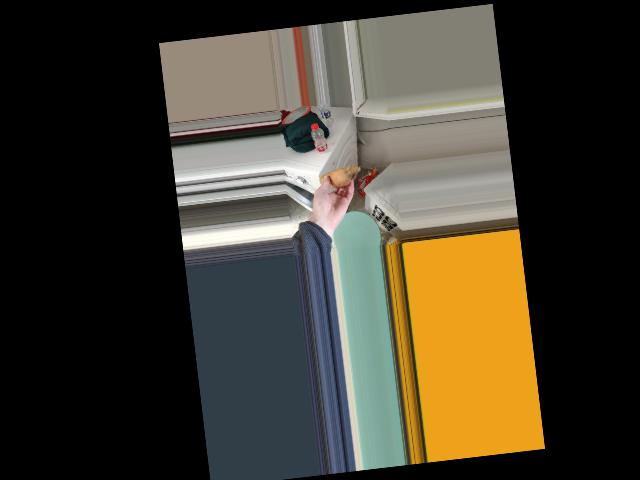sweet_potato: (320, 166, 354, 187)
